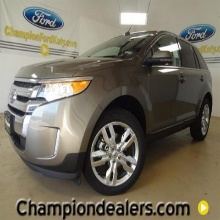no damage: (4, 30, 212, 194)
